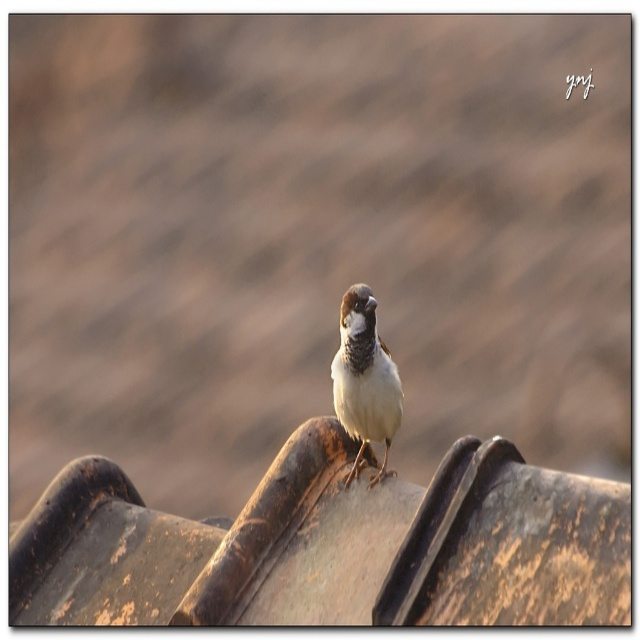Sparrow: (331, 285, 404, 493)
